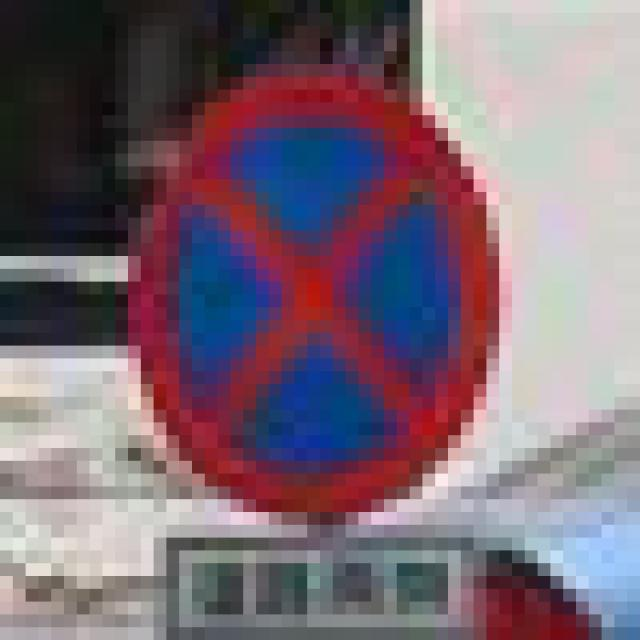no_parking: (116, 51, 487, 512)
